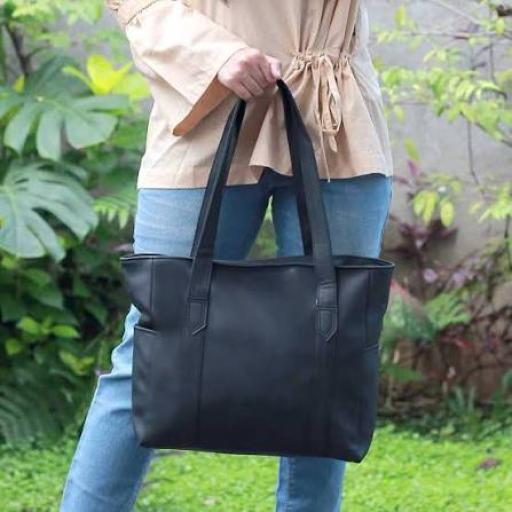tas sandang: (118, 76, 410, 466)
